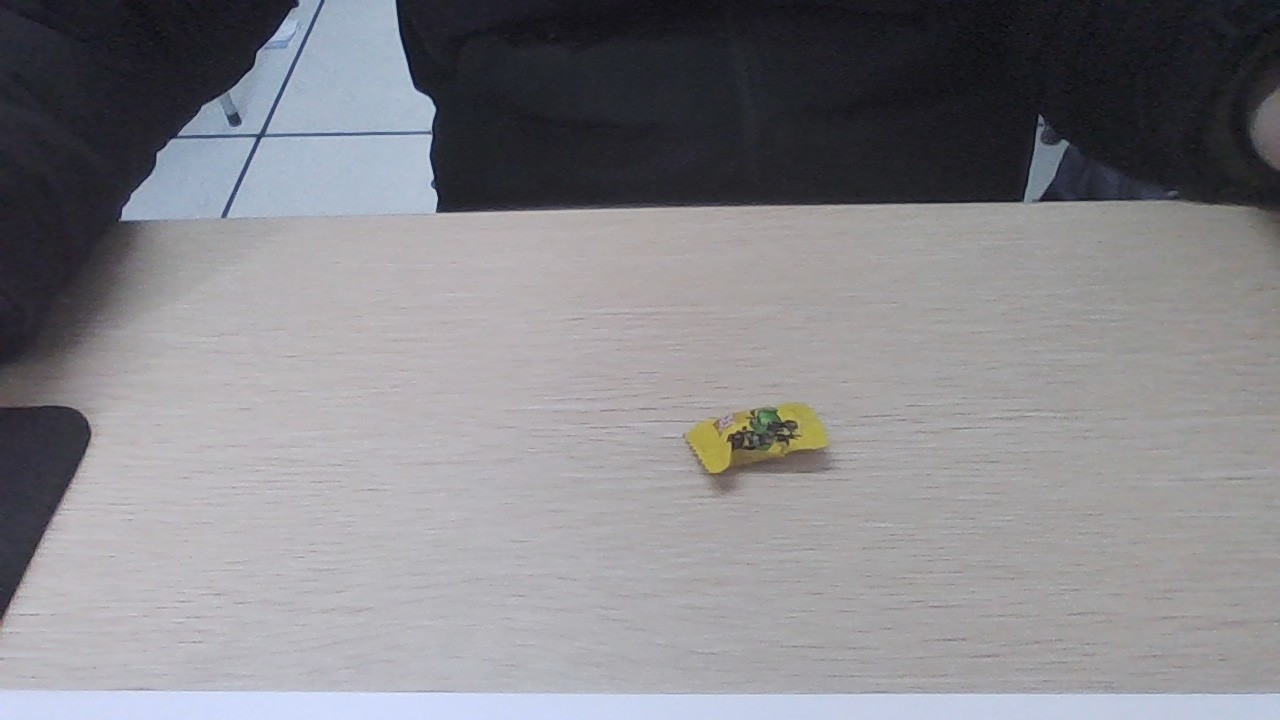CY-sugar: (680, 404, 815, 473)
